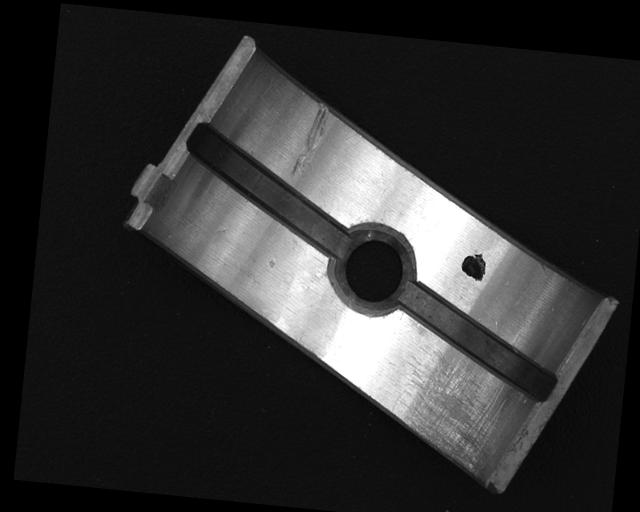blot: (459, 250, 488, 283)
bruise: (267, 255, 277, 268)
gap: (179, 124, 358, 258), (390, 281, 565, 402)
hole: (327, 222, 417, 319)
nick: (290, 99, 331, 179)
scratch: (388, 342, 514, 474)
